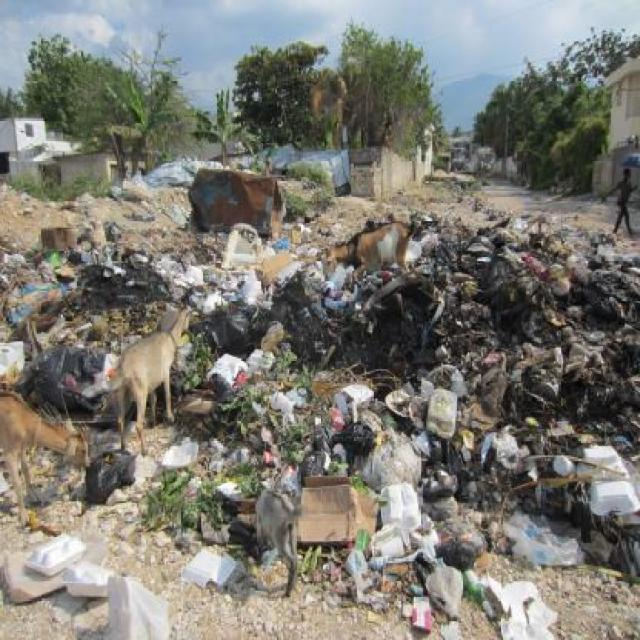garbage: (238, 294, 624, 558), (438, 226, 594, 462), (18, 260, 226, 339)
